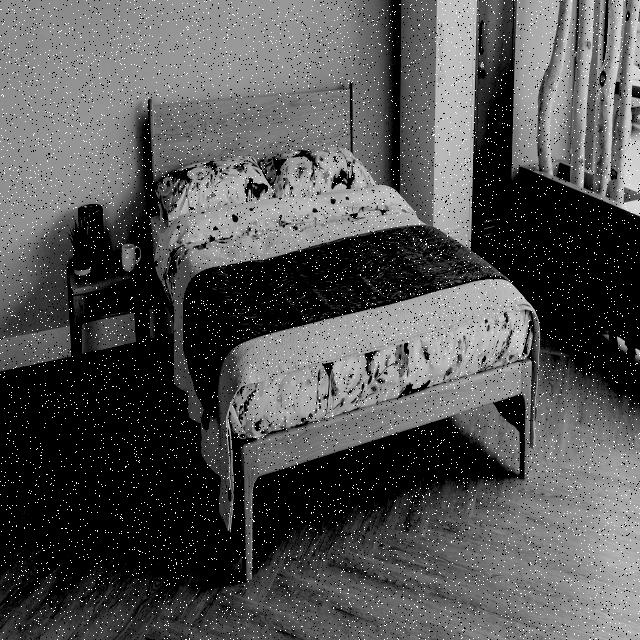bed: (142, 92, 536, 392)
